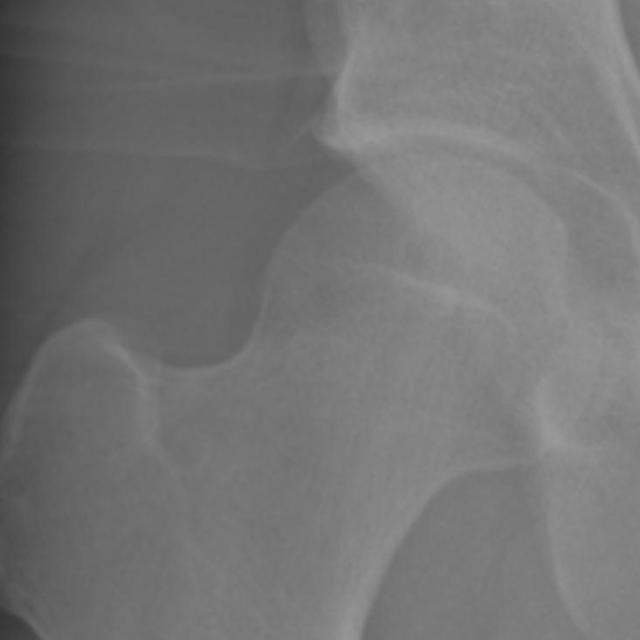Fitted_femural_head: (336, 153, 432, 336)
